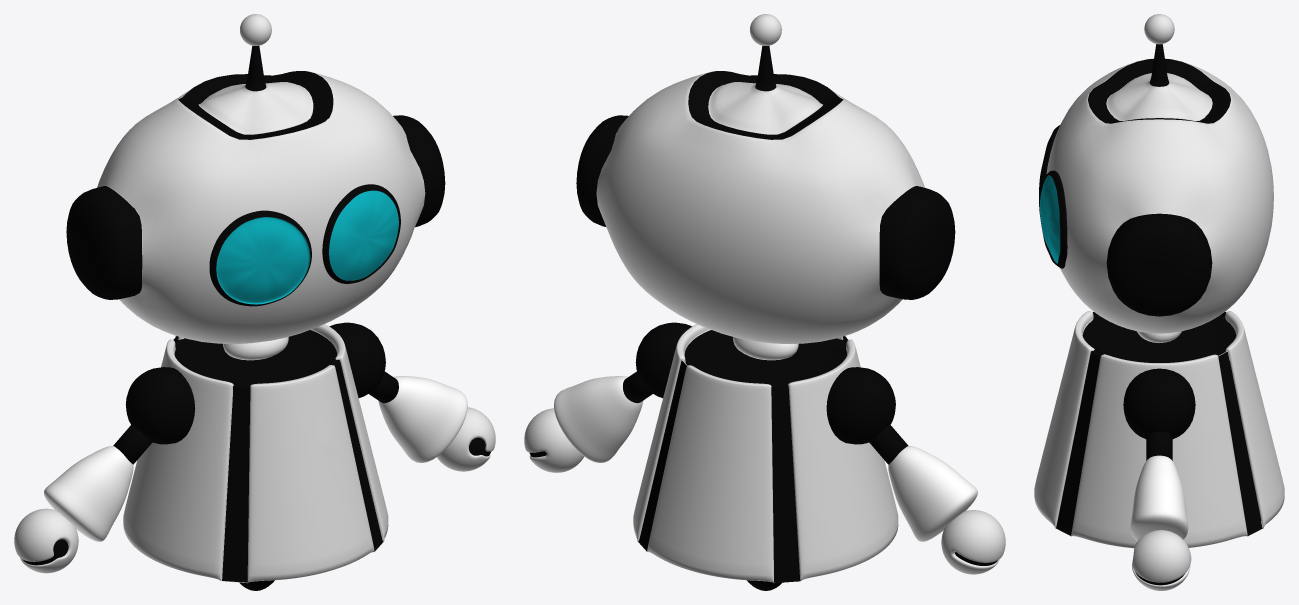
Rendered from robot_for_game.fbx.
3 renders of one model, left to right at view 1: azimuth 30°, elevation 25°; view 2: azimuth 150°, elevation 25°; view 3: azimuth 270°, elevation 25°, orthographic. The views are drawn at different scales.
Parts seen in each view (by area): view 1: Cylinder; view 2: Cylinder; view 3: Cylinder.
Part boxes in pixels (box(x1,y1,x2,y2)): Cylinder: box(14, 14, 495, 590); Cylinder: box(524, 14, 1005, 590); Cylinder: box(1034, 14, 1284, 590).
Bounding box in the file's own units: 304 × 353 × 148.
